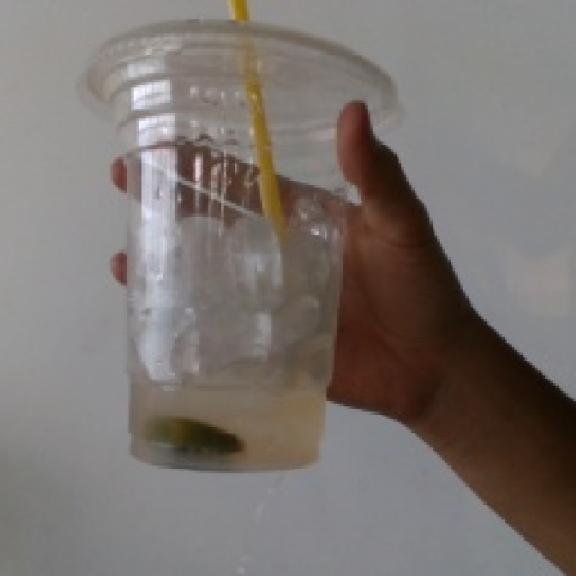Plastik: (83, 39, 344, 470)
